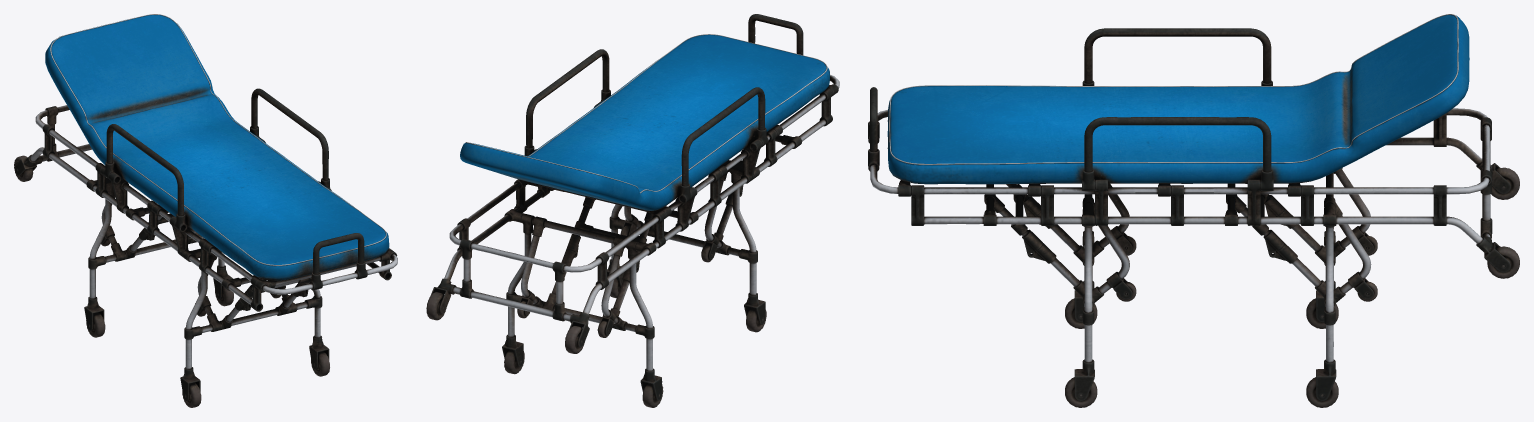
Rendered from Lettino Ambulanza.obj.
The picture shows the model from 3 angles, left to right: view 1: azimuth 30°, elevation 25°; view 2: azimuth 150°, elevation 25°; view 3: azimuth 270°, elevation 25°; orthographic projection. The views are drawn at different scales.
Parts seen in each view (by area): view 1: Lettino_Ambulanza; view 2: Lettino_Ambulanza; view 3: Lettino_Ambulanza.
Part boxes in pixels (<box>): Lettino_Ambulanza: <box>14,14,397,407</box>; Lettino_Ambulanza: <box>426,14,839,407</box>; Lettino_Ambulanza: <box>868,14,1519,407</box>.
Bounding box in the file's own units: 18.88 × 30.32 × 55.64.
